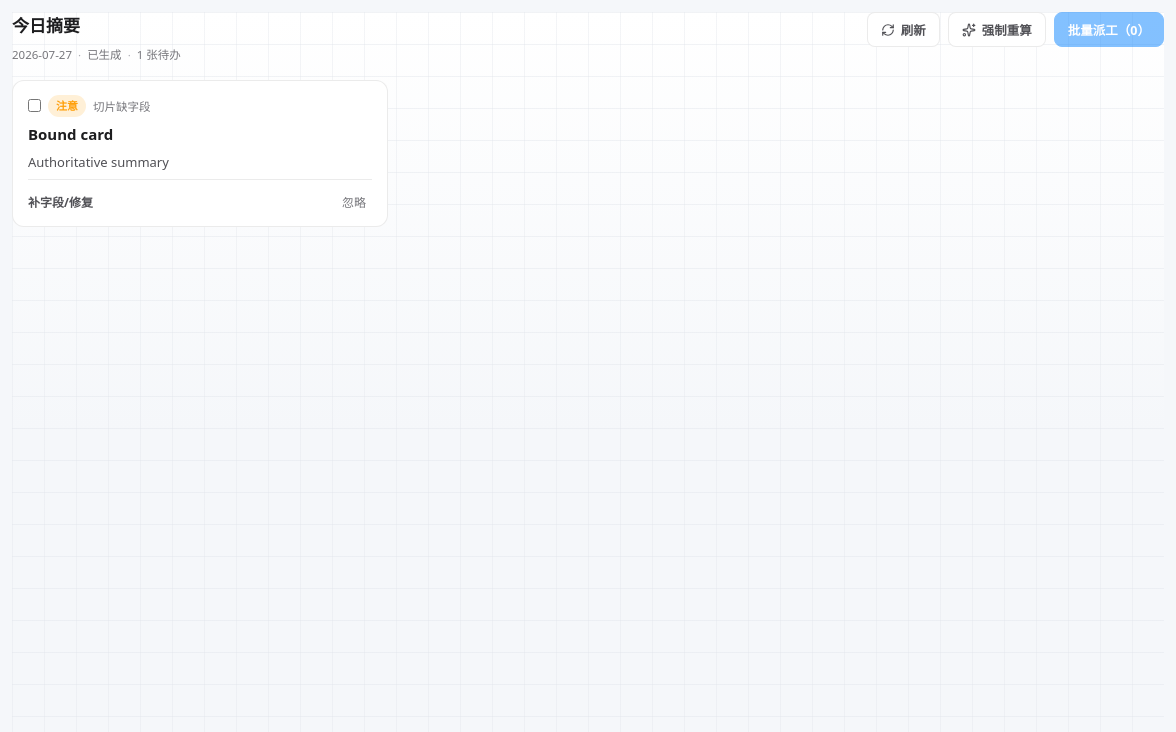
Test: DigestCanvas 在非安全上下文（生产形态） › 本地异常走「客户端错误」横幅，重试按钮不写「AI 重试」
What coordinates should you click on to do the following:
click the checkbox named "选择卡片 Bound card"
I would click on:
 (34, 106)
Its box is [28,99,41,112].
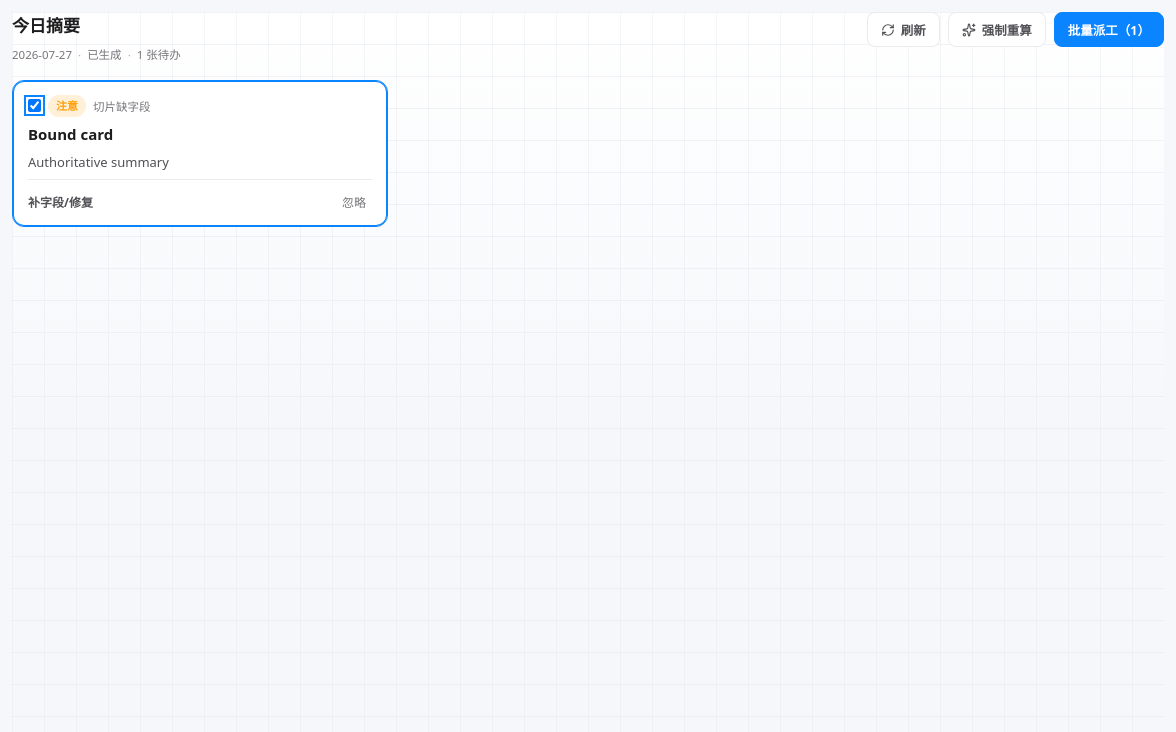
What coordinates should you click on to do the following:
click the button "批量派工（1）"
I would click on:
 (1109, 30)
Its box is [1054,12,1164,47].
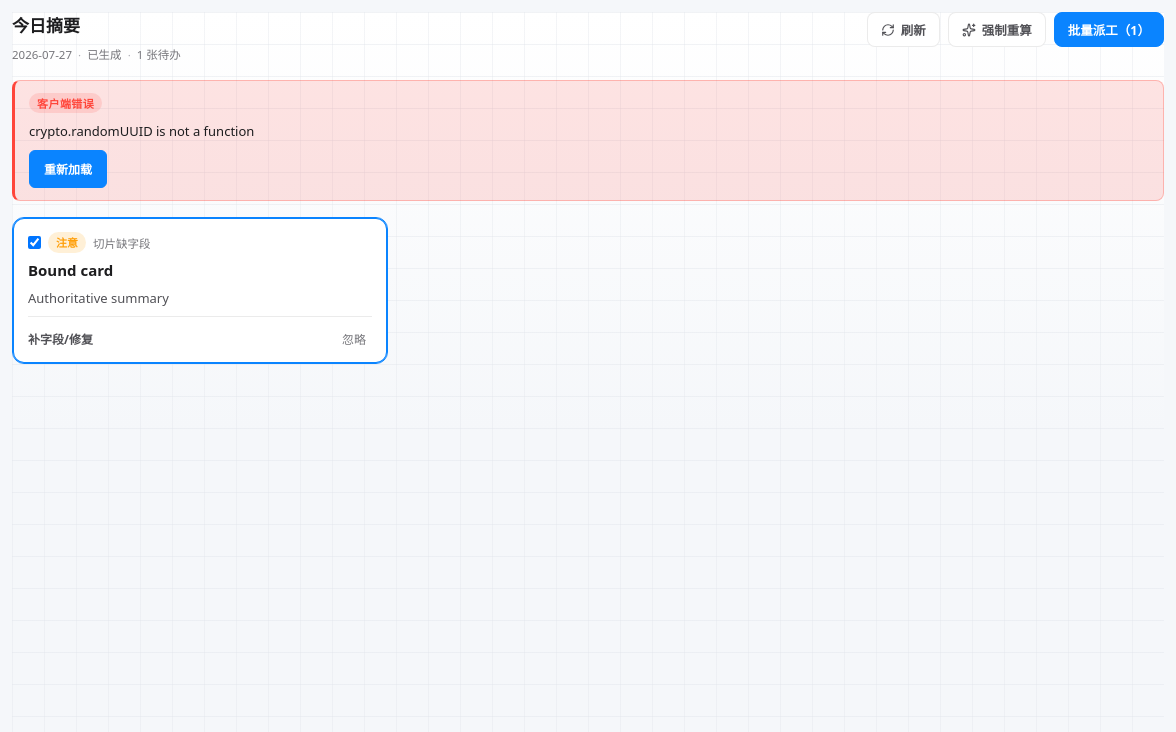
Expected: the message does not show "未知错误", [12,80,1164,201]
Expected: the message shows "客户端错误", [37,96,94,111]
Expected: the button "重新加载" is shown, [29,150,107,188]
